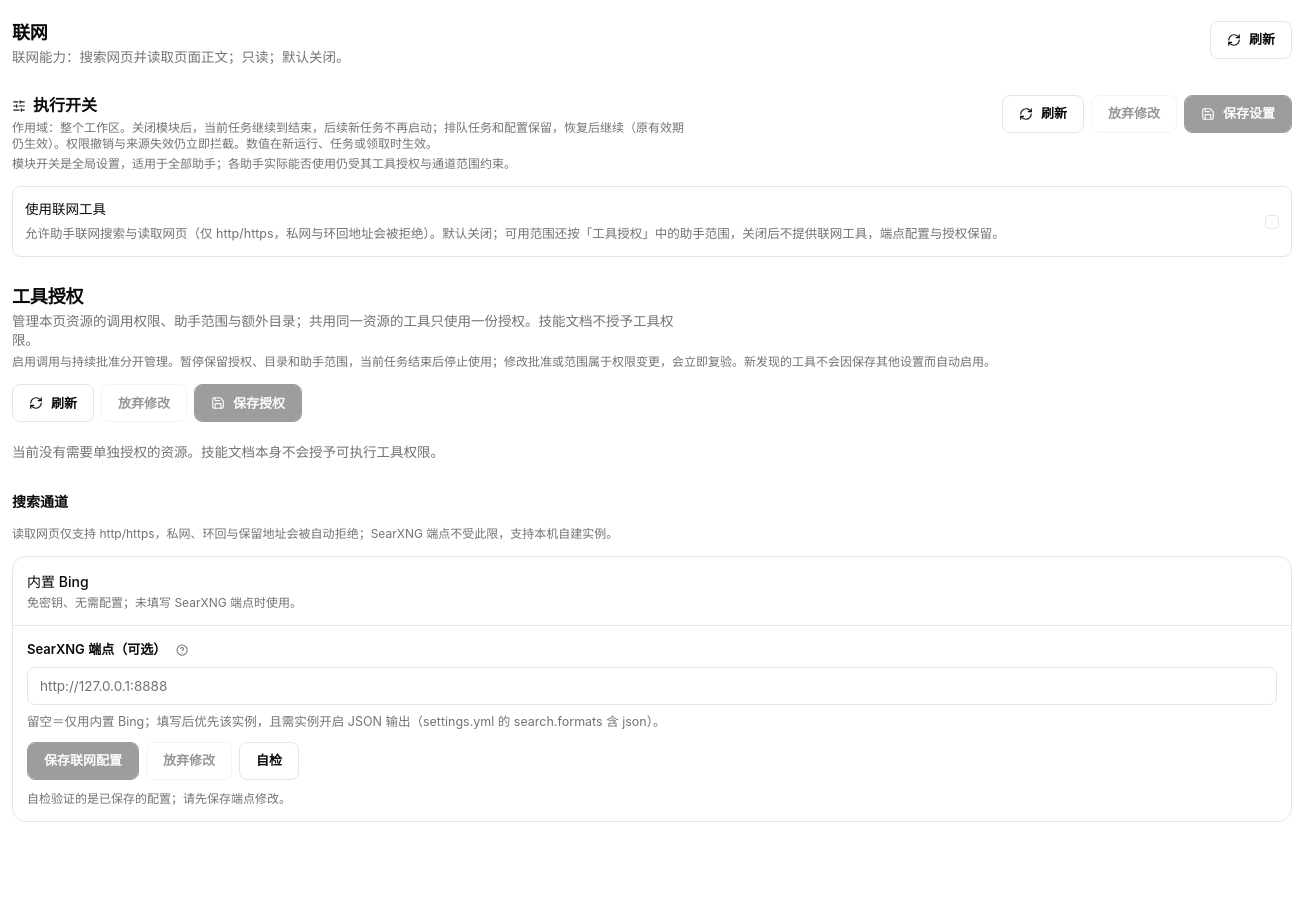
it: web access panel wiring › discards only the endpoint draft from the channels section
Type "http://127.0.0.1:9999" into the field labelled "SearXNG 端点（可选）" at coordinates (652, 686), box [27, 666, 1277, 704]
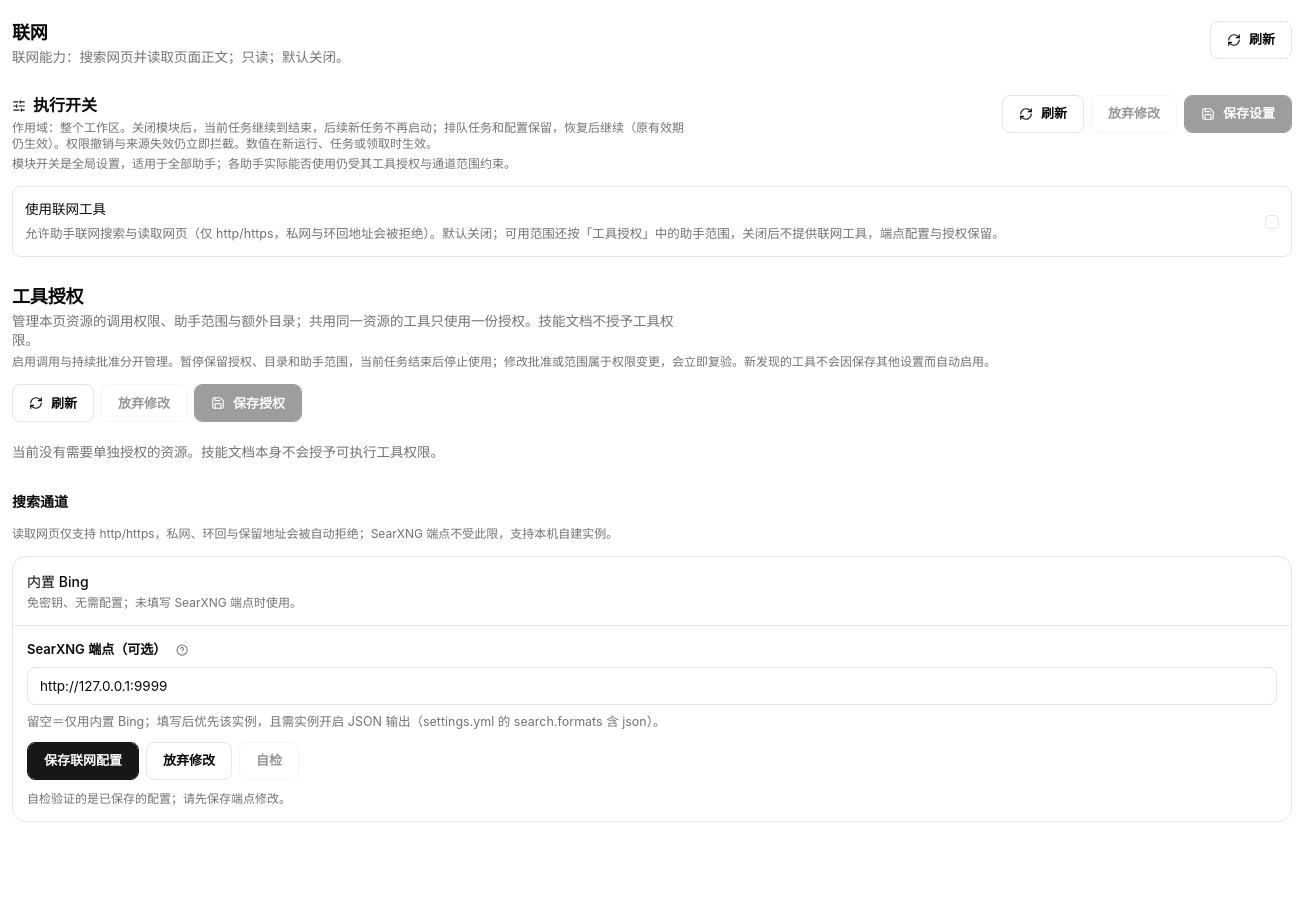
Click the button "放弃修改" below "SearXNG 端点（可选）" at coordinates (189, 761), box [146, 742, 232, 780]
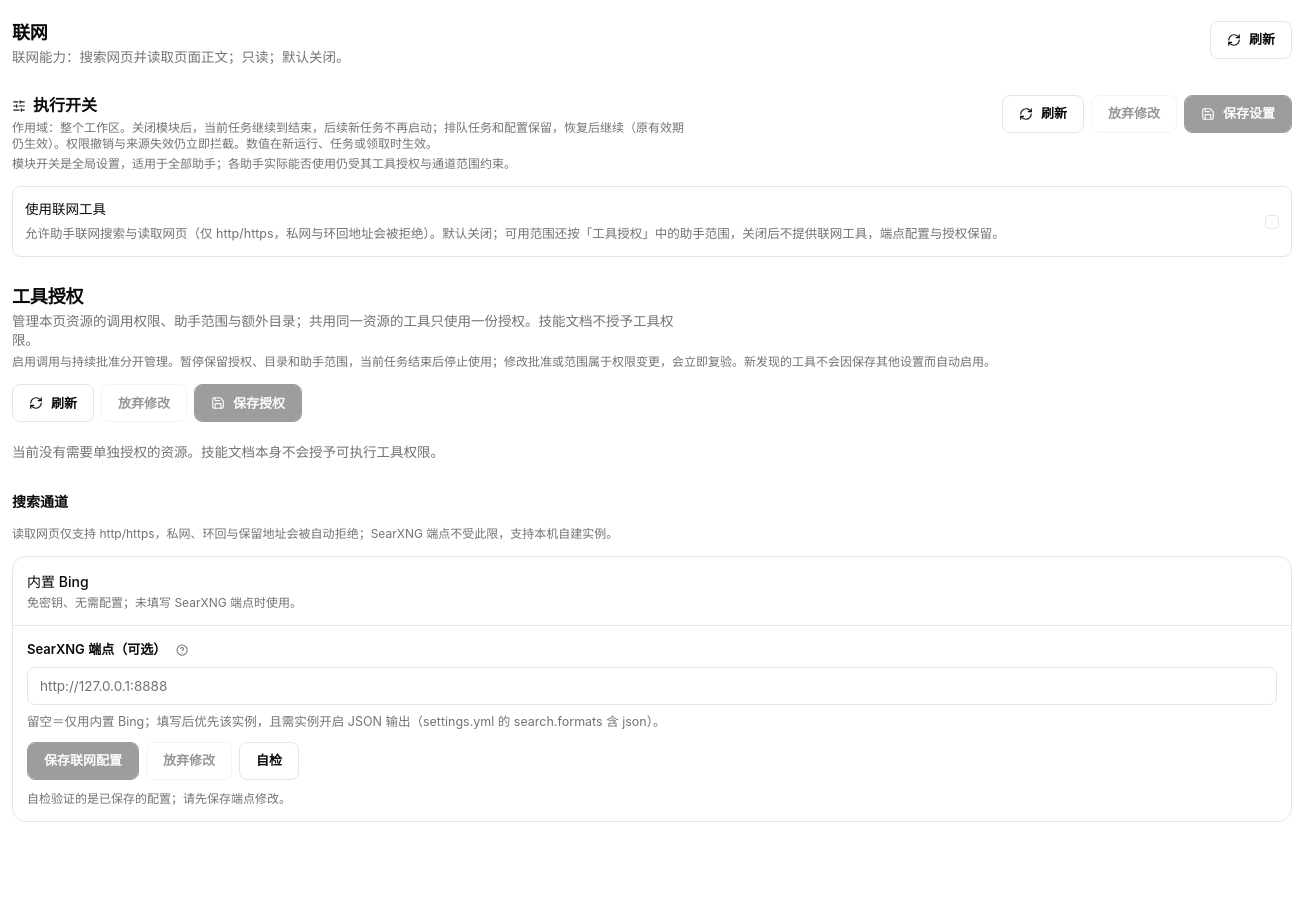
expect the field labelled "SearXNG 端点（可选）" is empty: met, box [27, 666, 1277, 704]
expect the button "保存联网配置" is disabled: met, box [27, 742, 139, 780]
